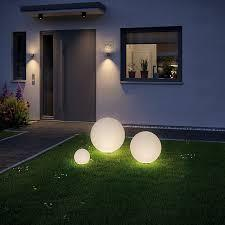Lamp: (87, 115, 126, 154), (128, 130, 167, 166), (74, 144, 92, 168)
